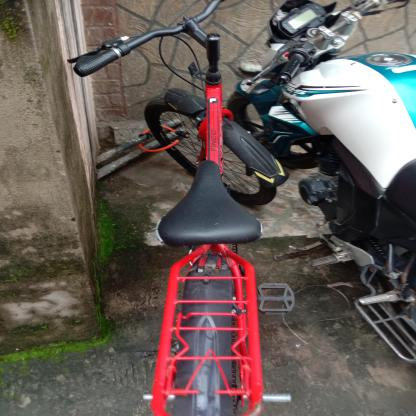bike: (31, 0, 316, 416)
